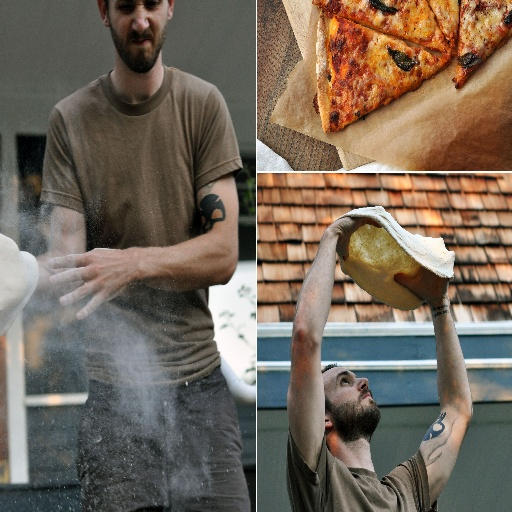hand: (45, 228, 166, 314), (327, 214, 383, 260), (393, 265, 451, 304), (0, 233, 26, 313)
